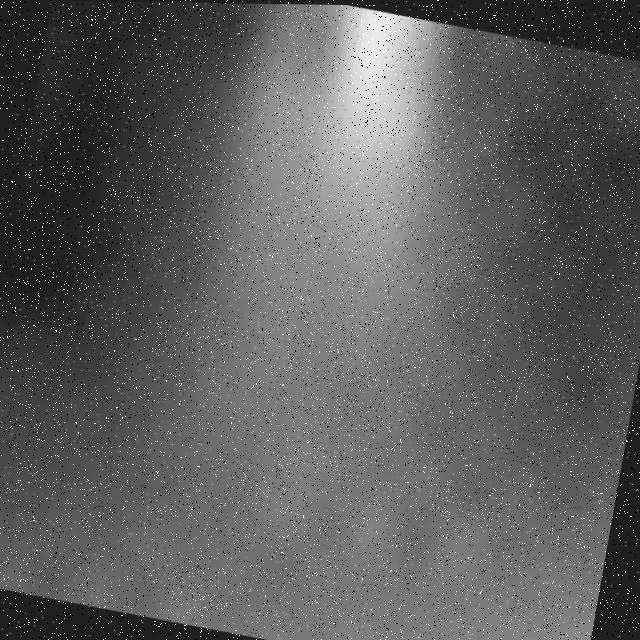person: (158, 3, 475, 510)
